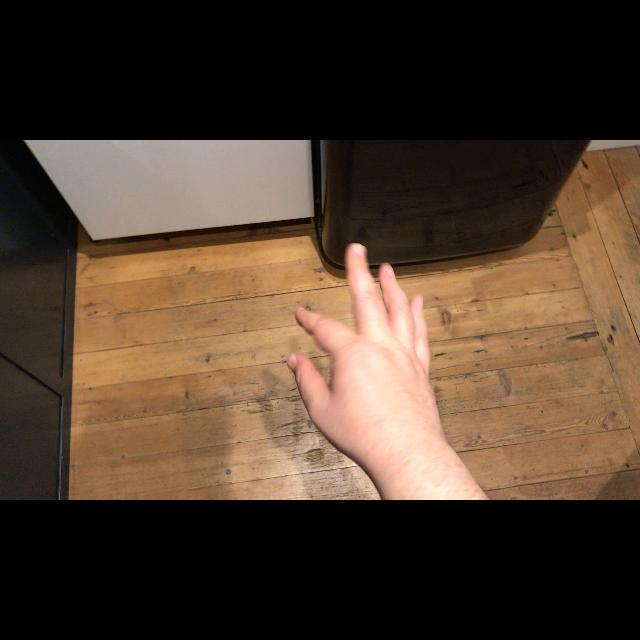bare_hand: (286, 242, 443, 457)
